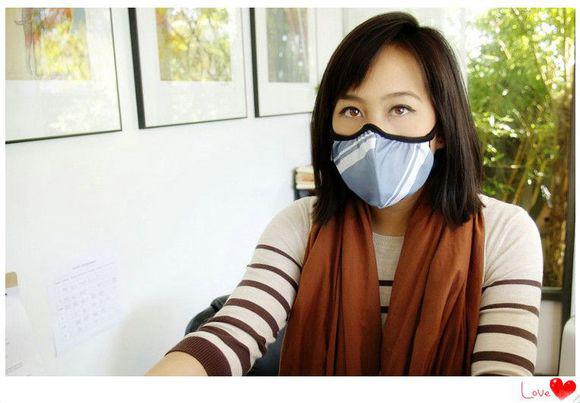OK: (329, 80, 446, 197)
